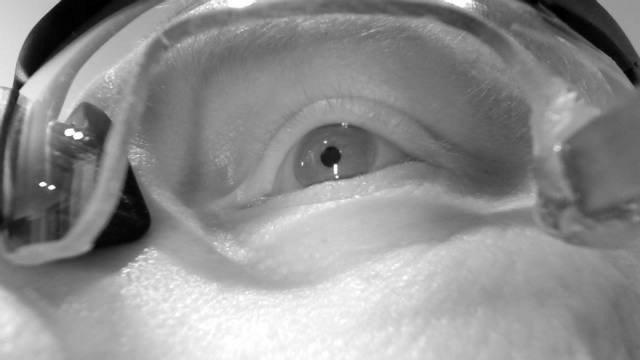pupil: (319, 145, 341, 168)
